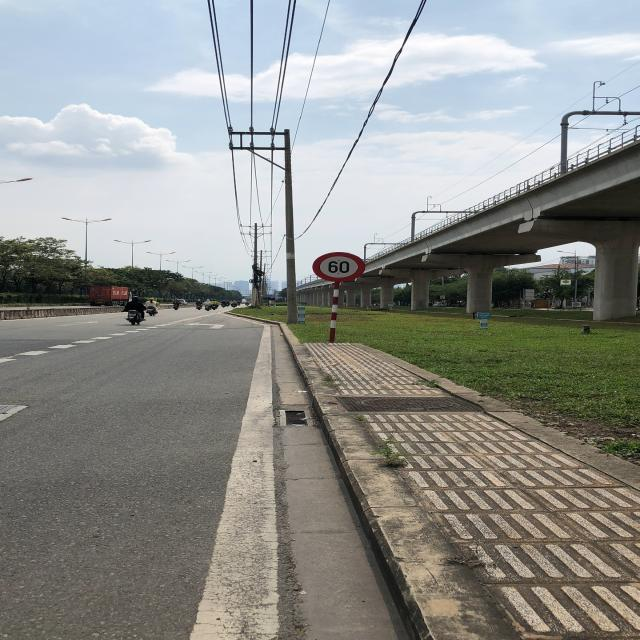Bien bao toc do toi da cho phep: (307, 250, 367, 283)
